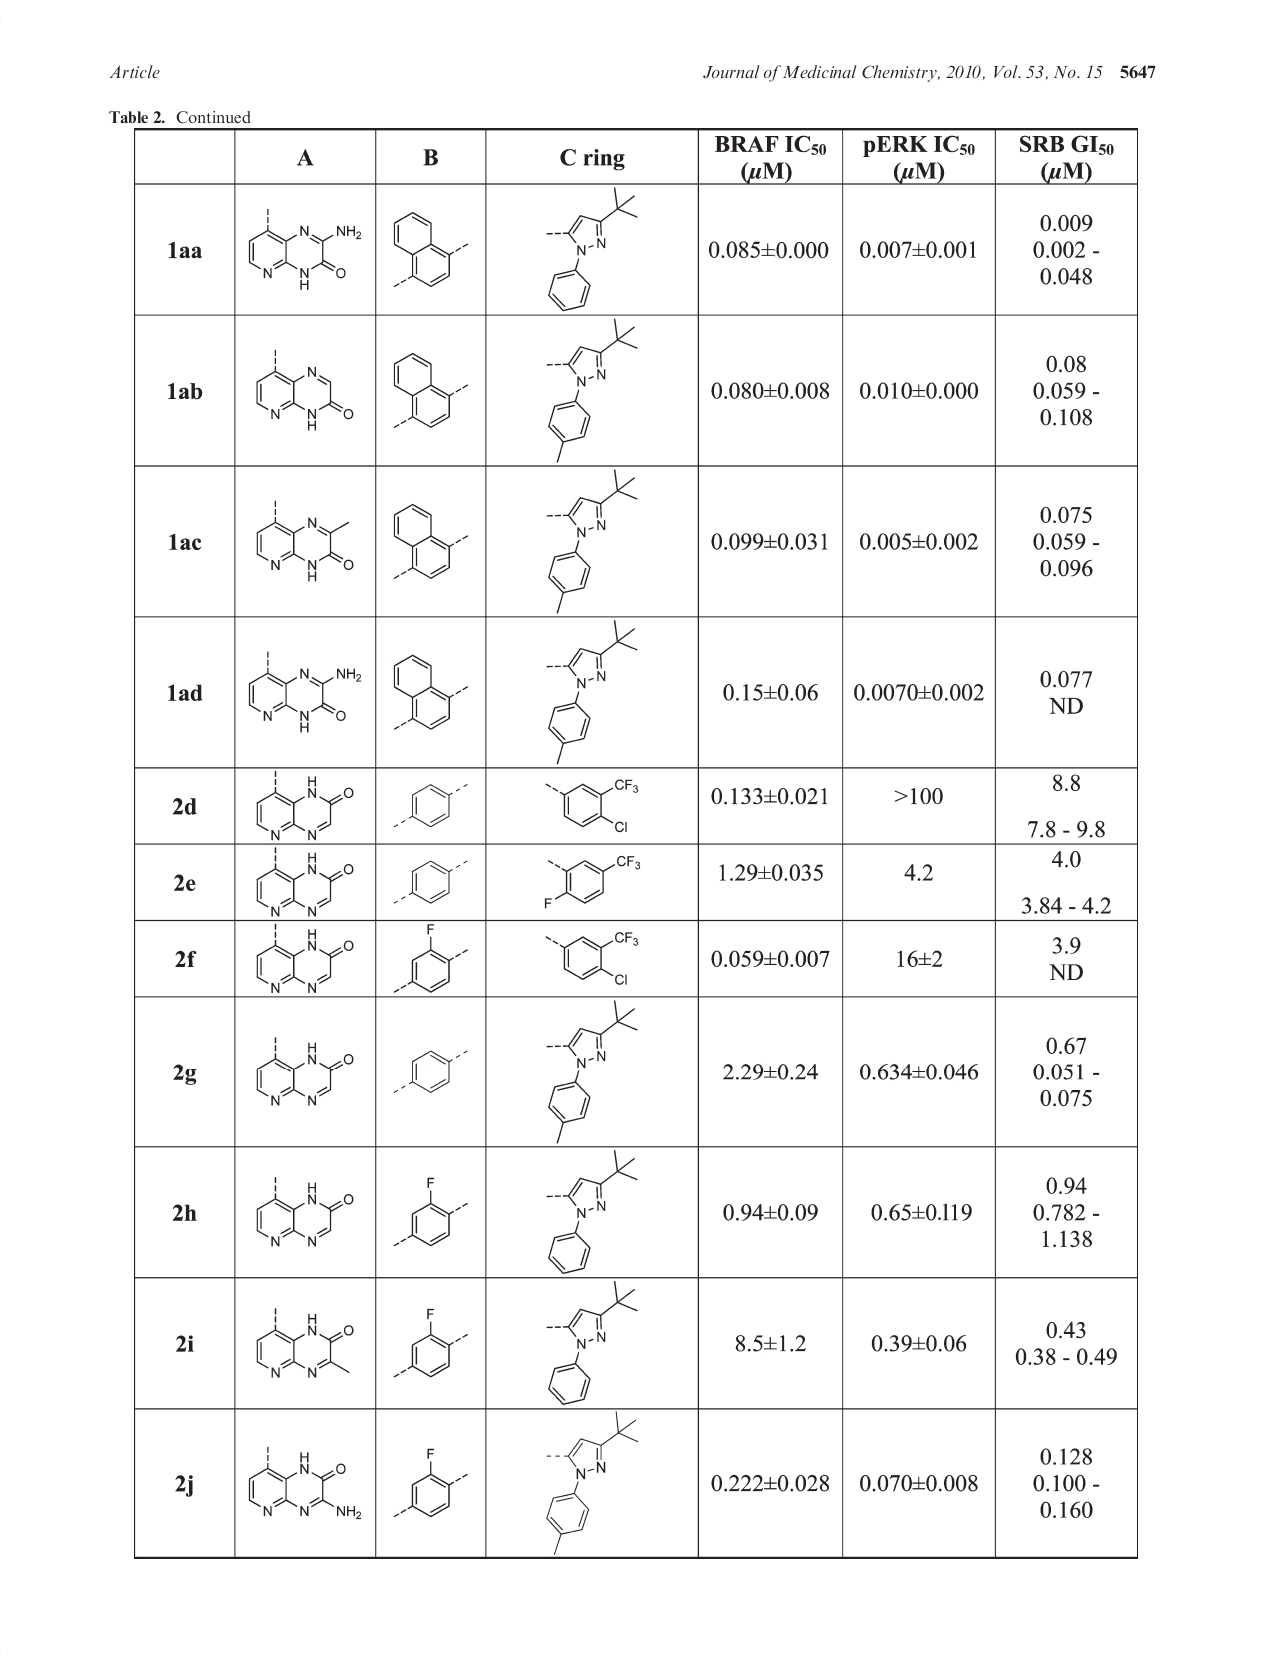exist_molecular: (541, 318, 637, 463), (545, 618, 638, 765), (544, 1410, 637, 1556), (545, 469, 638, 613), (547, 1001, 634, 1144), (543, 1281, 640, 1406), (544, 1150, 640, 1275), (547, 186, 637, 311), (247, 205, 364, 293), (247, 652, 364, 735), (249, 1443, 363, 1521), (254, 347, 355, 432), (255, 501, 352, 582), (257, 1305, 354, 1380), (255, 1035, 354, 1108), (257, 1176, 356, 1247), (257, 923, 356, 993), (257, 771, 356, 840), (257, 848, 355, 916), (391, 210, 469, 293), (391, 653, 469, 731), (392, 350, 469, 430), (392, 501, 469, 581), (394, 1306, 471, 1380), (394, 1446, 468, 1519), (394, 1176, 469, 1247), (543, 852, 641, 907), (544, 778, 640, 834), (394, 924, 469, 993), (544, 931, 640, 985), (395, 779, 473, 829), (391, 1047, 471, 1094), (395, 854, 471, 902)
